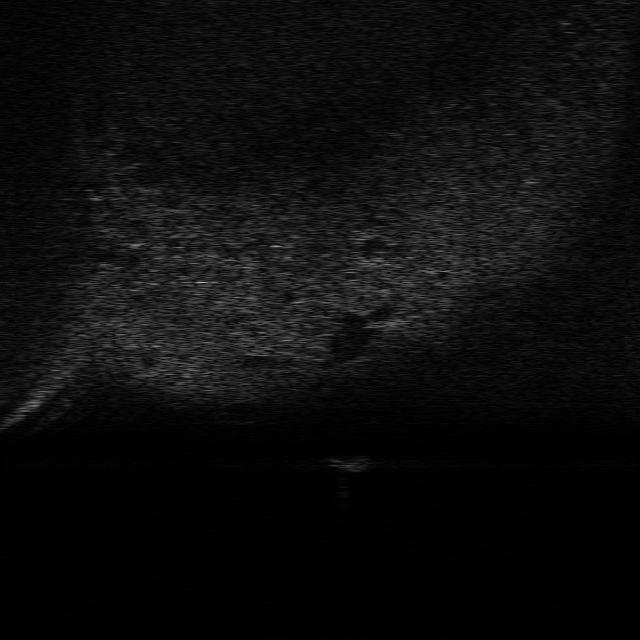cube: (328, 453, 378, 475)
